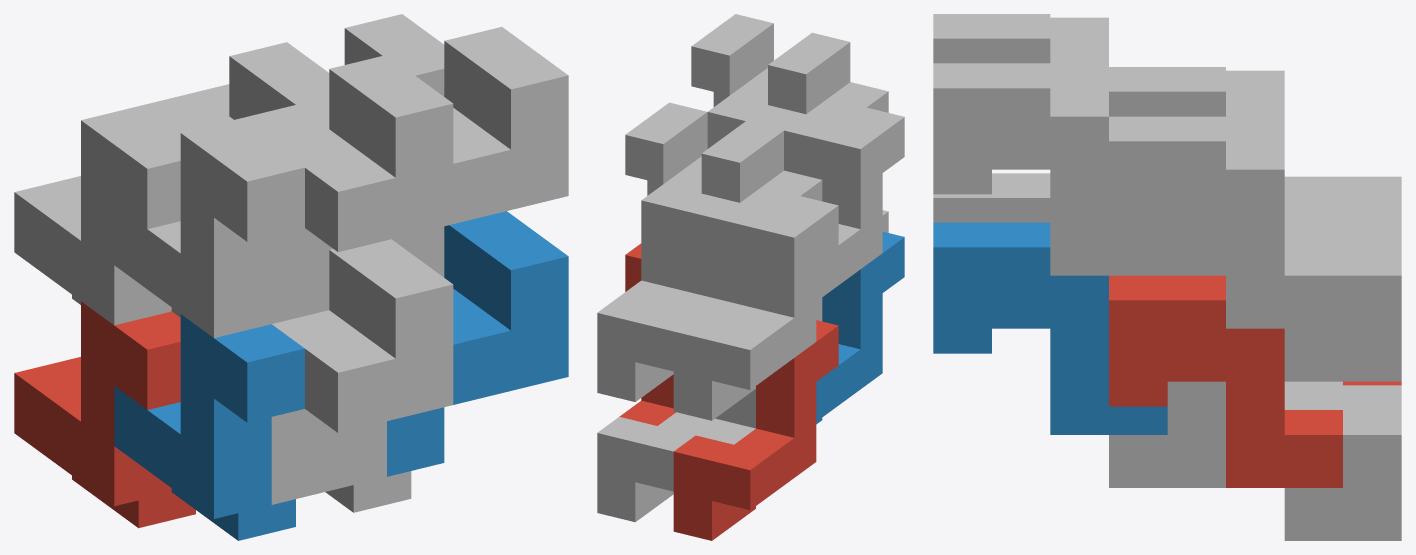
Rendered from tiling.obj.
3 views of the same model, side by side, from view 1: azimuth 30°, elevation 25°; view 2: azimuth 150°, elevation 25°; view 3: azimuth 270°, elevation 25° (orthographic). The views are drawn at different scales.
Parts seen in each view (by area): view 1: copy_2_domain_4, copy_2_domain_2, copy_1_domain_2, copy_1_domain_4, copy_2_domain_6, copy_1_domain_3, copy_1_domain_1, copy_2_domain_8, copy_2_domain_3, copy_1_domain_6, copy_2_domain_7; view 2: copy_1_domain_3, copy_1_domain_1, copy_1_domain_7, copy_2_domain_3, copy_2_domain_7, copy_1_domain_4, copy_2_domain_4, copy_1_domain_2, copy_1_domain_5, copy_2_domain_8, copy_2_domain_5, copy_2_domain_1 (+1 smaller); view 3: copy_2_domain_7, copy_2_domain_5, copy_2_domain_8, copy_2_domain_6, copy_1_domain_7, copy_1_domain_5, copy_1_domain_6, copy_2_domain_3, copy_2_domain_4, copy_1_domain_3, copy_2_domain_2, copy_1_domain_8 (+1 smaller).
Boxes of the visible parts, x1,y1,x2,y2 form: copy_2_domain_4: (239,55,453,323); copy_2_domain_2: (271,239,453,504); copy_1_domain_2: (114,314,304,540); copy_1_domain_4: (114,119,304,337); copy_2_domain_6: (387,211,568,476); copy_1_domain_3: (14,106,180,325); copy_1_domain_1: (14,301,195,528); copy_2_domain_8: (392,27,568,277); copy_2_domain_3: (139,42,329,136); copy_1_domain_6: (325,421,411,512); copy_2_domain_7: (344,14,444,96); copy_1_domain_3: (673,196,838,420); copy_1_domain_1: (673,320,838,540); copy_1_domain_7: (597,193,739,401); copy_2_domain_3: (696,121,822,324); copy_2_domain_7: (619,102,707,305); copy_1_domain_4: (816,107,904,303); copy_2_domain_4: (768,32,888,179); copy_1_domain_2: (816,231,904,424); copy_1_domain_5: (597,412,717,522); copy_2_domain_8: (691,14,773,148); copy_2_domain_5: (619,243,675,425); copy_2_domain_1: (696,300,822,444); copy_2_domain_7: (1109,116,1342,328); copy_2_domain_5: (1109,275,1342,487); copy_2_domain_8: (933,63,1167,275); copy_2_domain_6: (933,222,1167,434); copy_1_domain_7: (1226,120,1401,381); copy_1_domain_5: (1284,385,1401,540); copy_1_domain_6: (1109,381,1225,487); copy_2_domain_3: (1109,67,1342,226); copy_2_domain_4: (933,14,1108,66); copy_1_domain_3: (1226,70,1401,226); copy_2_domain_2: (933,173,1050,222); copy_1_domain_8: (1050,67,1225,275).
Bounding box in the file's own units: 5 × 9 × 8.
